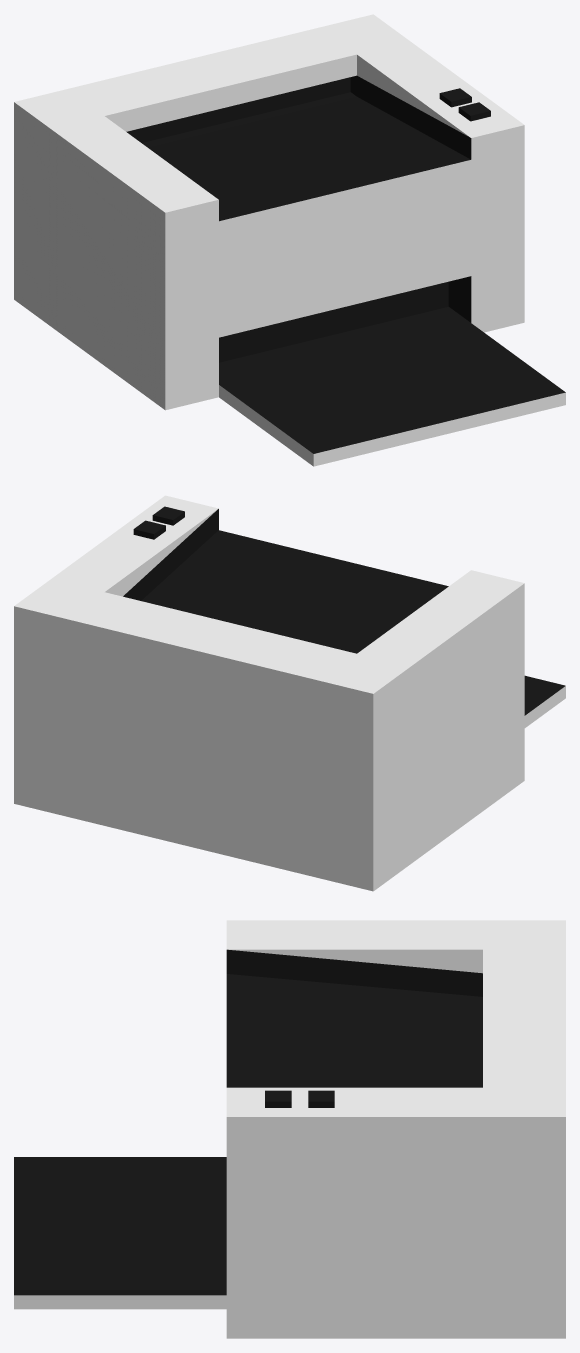
File: printer.fbx
3 renders of one model, top to bottom at view 1: azimuth 30°, elevation 25°; view 2: azimuth 150°, elevation 25°; view 3: azimuth 270°, elevation 25°, orthographic. The views are drawn at different scales.
Parts seen in each view (by area): view 1: printer.001; view 2: printer.001; view 3: printer.001.
Part boxes in pixels (bbox=[...]): printer.001: bbox=[14, 14, 565, 466]; printer.001: bbox=[14, 495, 565, 891]; printer.001: bbox=[14, 920, 565, 1338].
Size of the model in its own units: 0.5203 by 0.2811 by 0.6169.
Materials: 1 (1 with a texture image).
